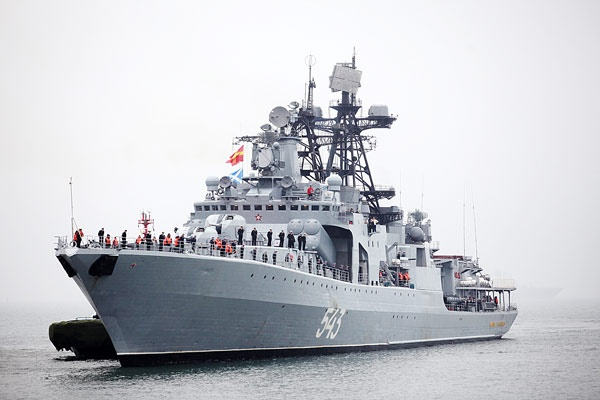warship: (50, 65, 521, 363)
